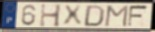6: (21, 3, 37, 27)
D: (82, 5, 107, 28)
F: (127, 4, 150, 28)
H: (39, 3, 63, 28)
M: (103, 4, 130, 28)
X: (63, 4, 84, 27)
